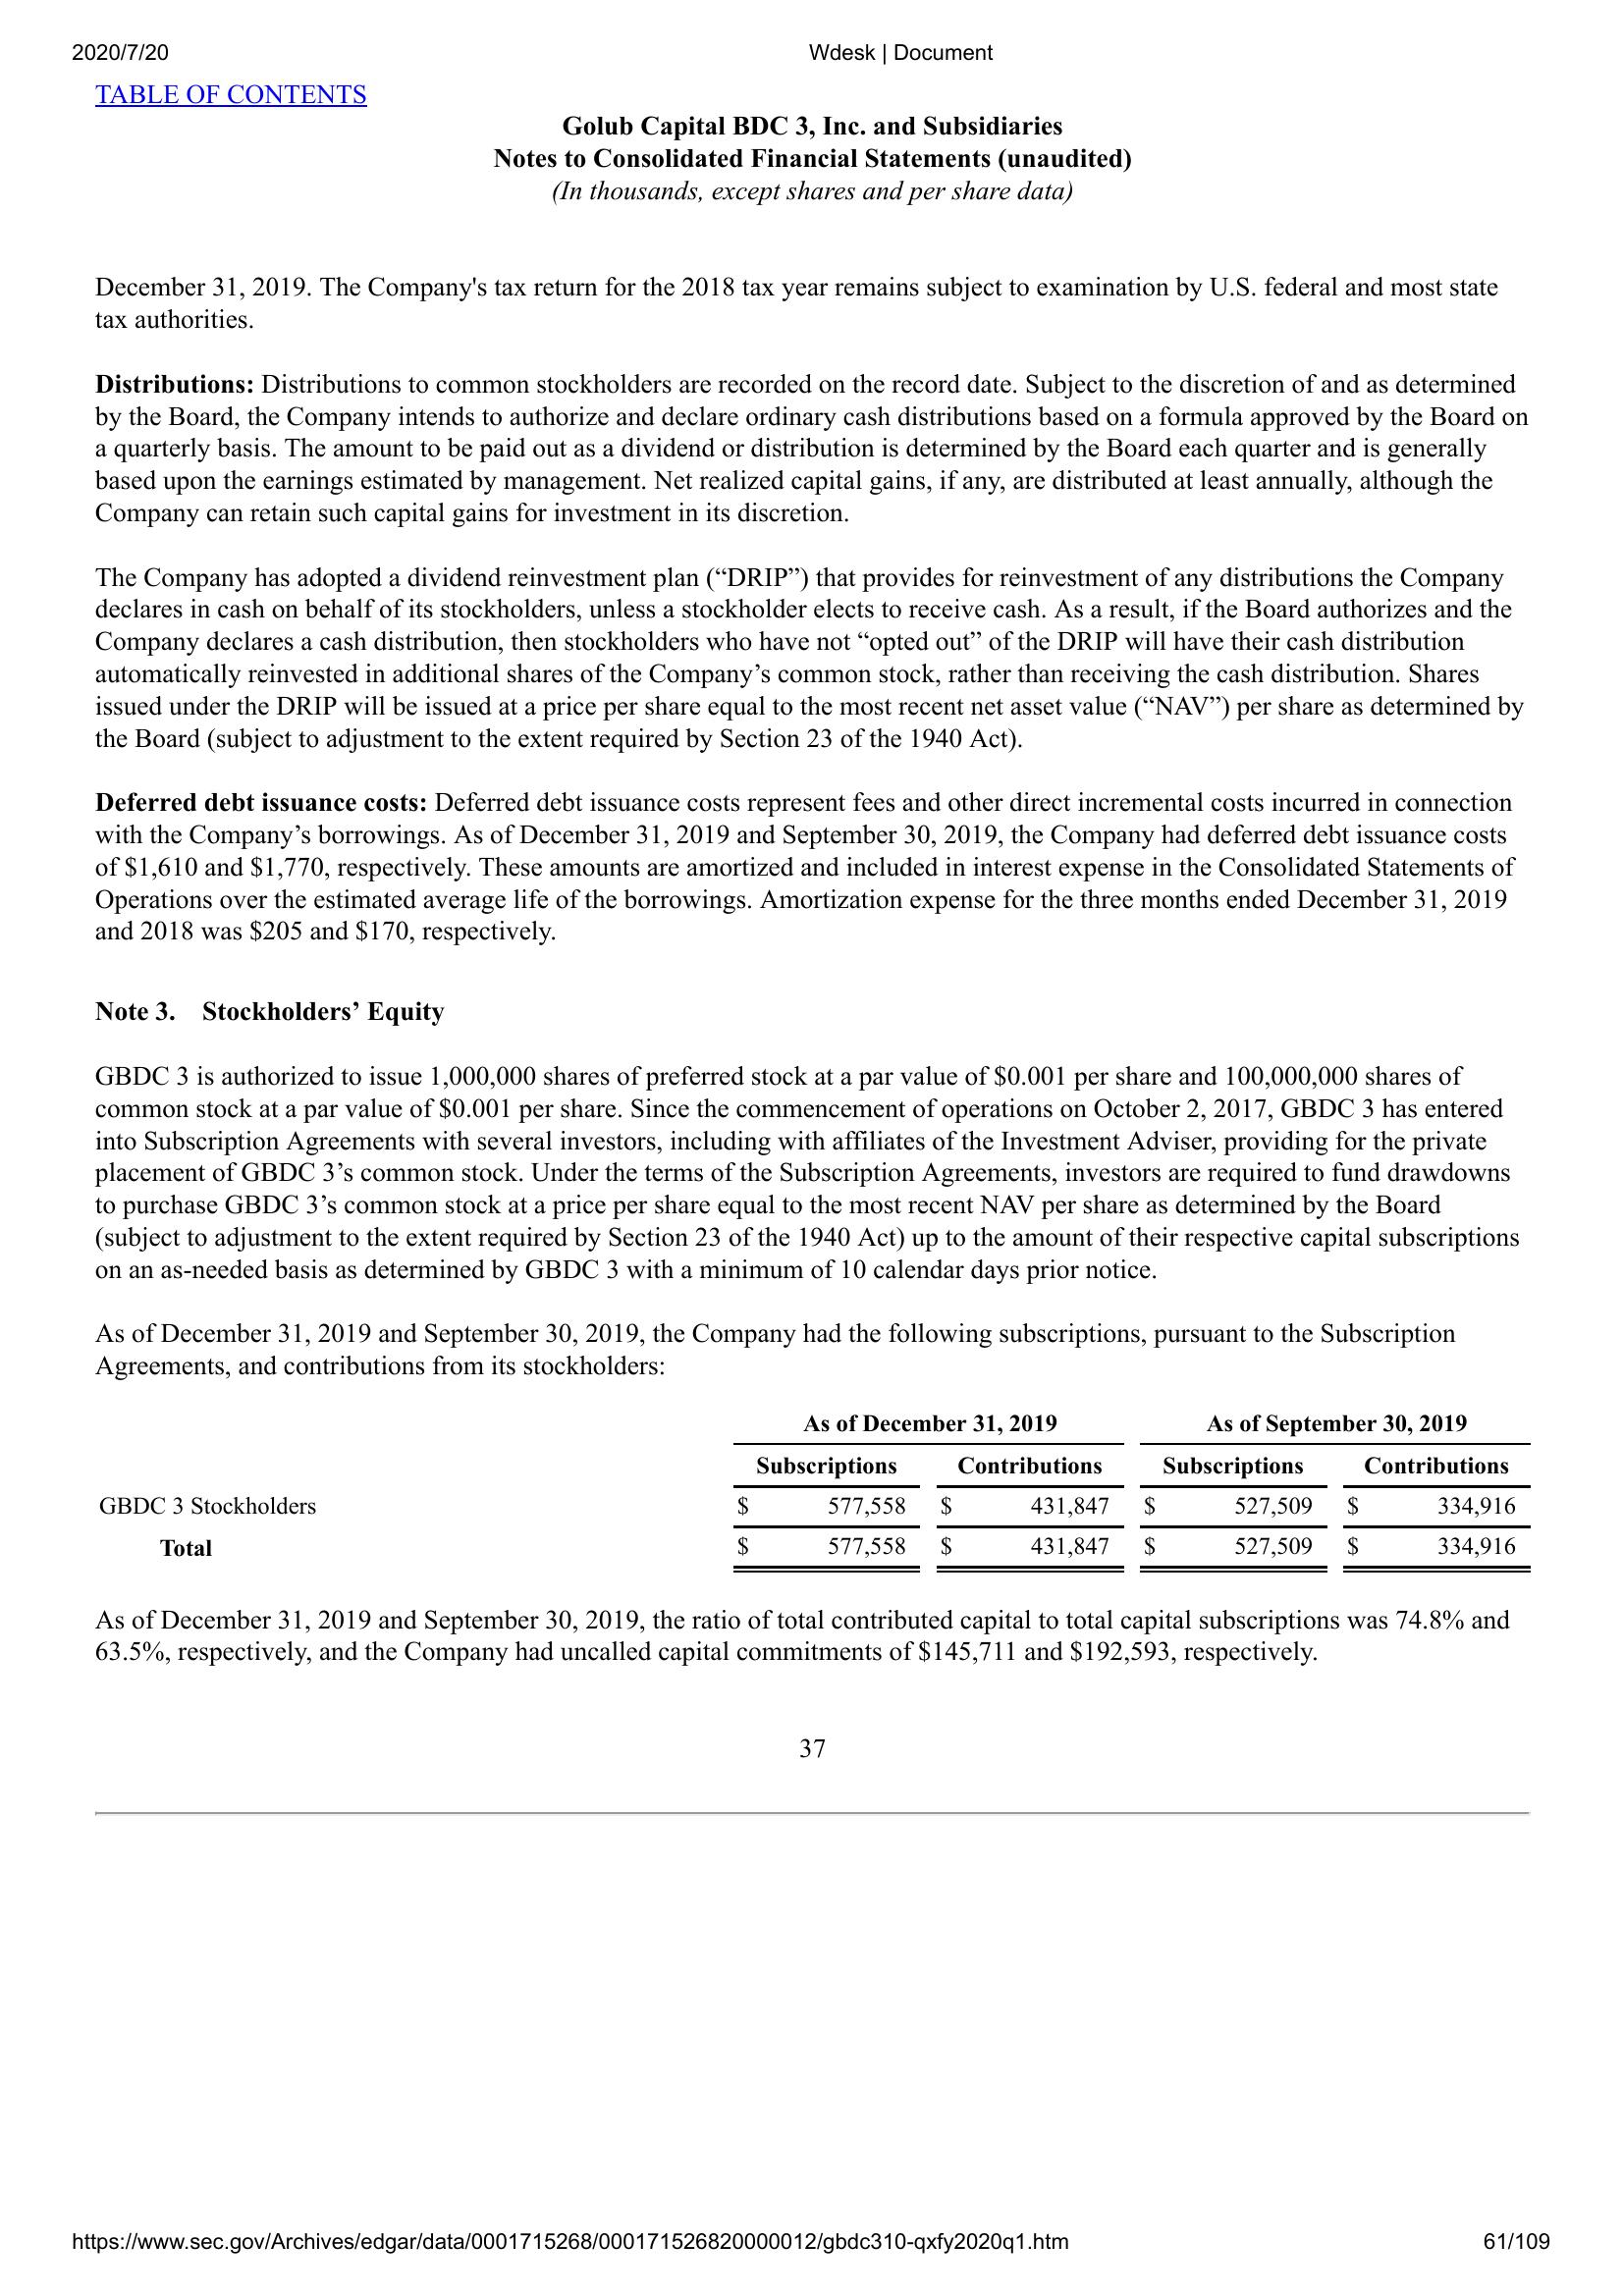table: (90, 1403, 1542, 1587)
